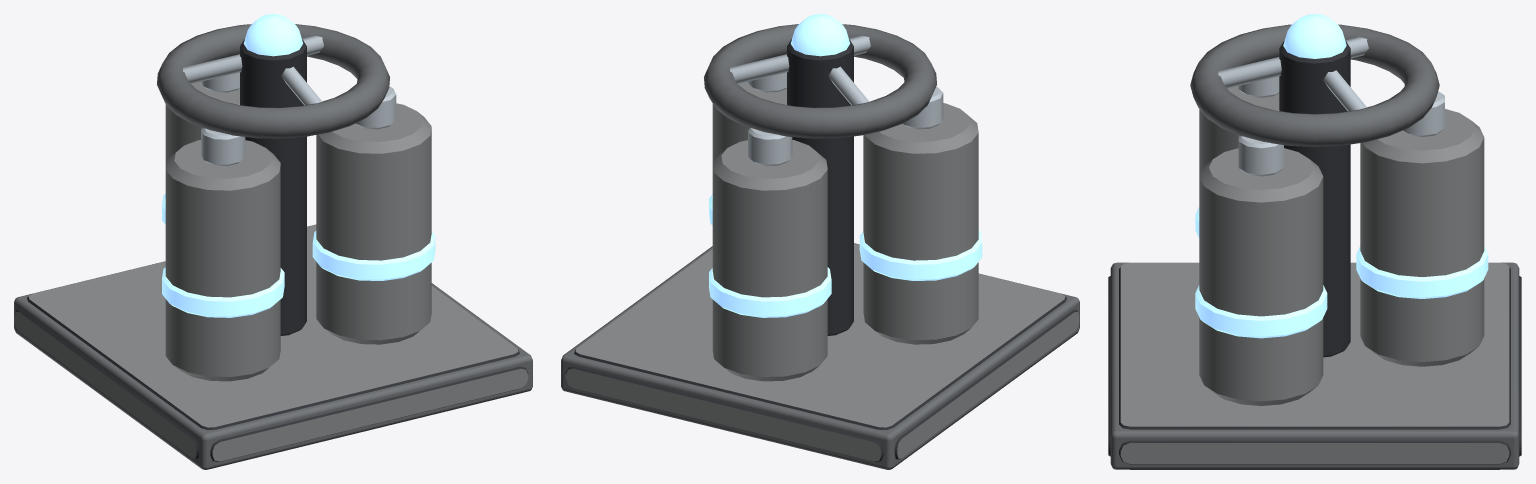
File: R4X_ChargeRegenerator.glb
The picture shows the model from 3 angles, left to right: view 1: azimuth 30°, elevation 25°; view 2: azimuth 150°, elevation 25°; view 3: azimuth 270°, elevation 25°; orthographic projection. The views are drawn at different scales.
Parts seen in each view (by area): view 1: R4X_ChargeRegenerator_Body; view 2: R4X_ChargeRegenerator_Body; view 3: R4X_ChargeRegenerator_Body.
Part boxes in pixels (x1=…): R4X_ChargeRegenerator_Body: x1=14, y1=14, x2=532, y2=469; R4X_ChargeRegenerator_Body: x1=561, y1=14, x2=1079, y2=469; R4X_ChargeRegenerator_Body: x1=1108, y1=14, x2=1521, y2=469.
Size of the model in its own units: 0.52 by 0.515 by 0.52.
